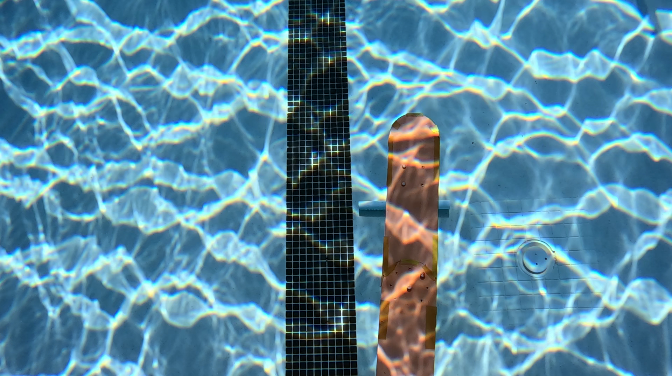pathmarker: (376, 113, 437, 375)
